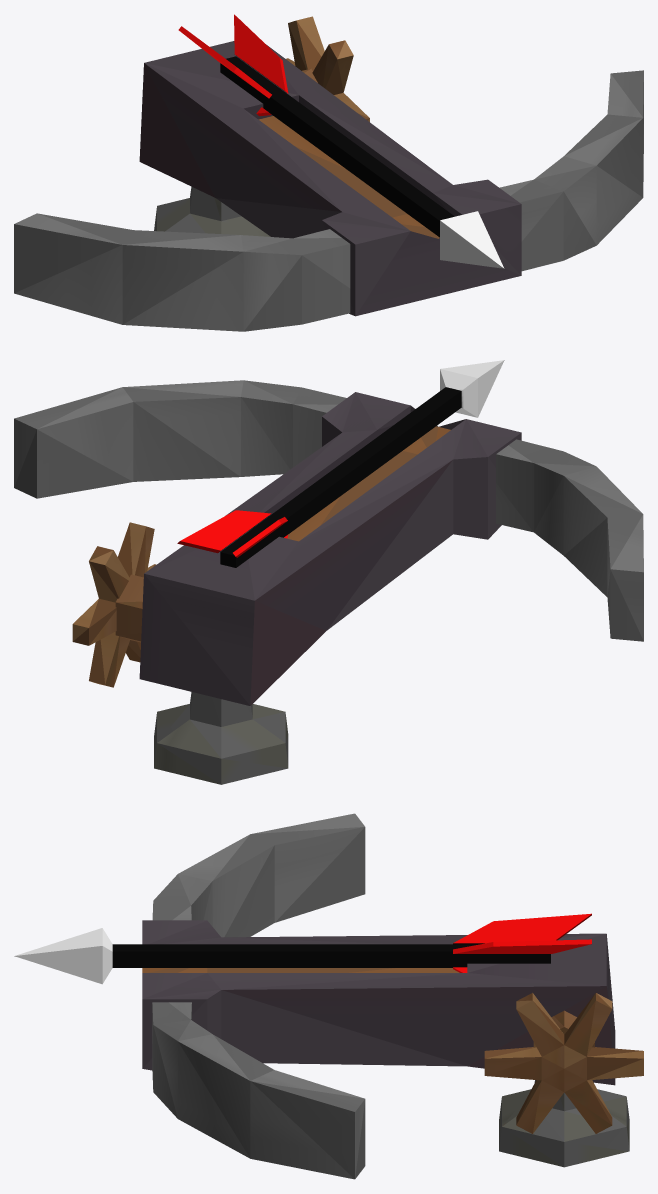
Rendered from rotate (merge).fbx.
3 renders of one model, top to bottom at view 1: azimuth 30°, elevation 25°; view 2: azimuth 150°, elevation 25°; view 3: azimuth 270°, elevation 25°, orthographic. The views are drawn at different scales.
Parts seen in each view (by area): view 1: Turret, child; view 2: Turret, child; view 3: Turret, child.
Boxes of the visible parts, x1,y1,x2,y2 form: Turret: (14,16,643,331); child: (178,14,504,268); Turret: (14,380,643,784); child: (177,360,504,567); Turret: (142,813,643,1179); child: (14,913,591,984).
Size of the model in its own units: 2.01 by 0.6594 by 1.8.
Materials: 2 (2 with a texture image).
